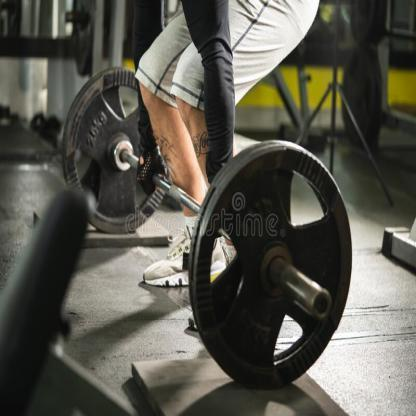barbell: (59, 67, 354, 391)
